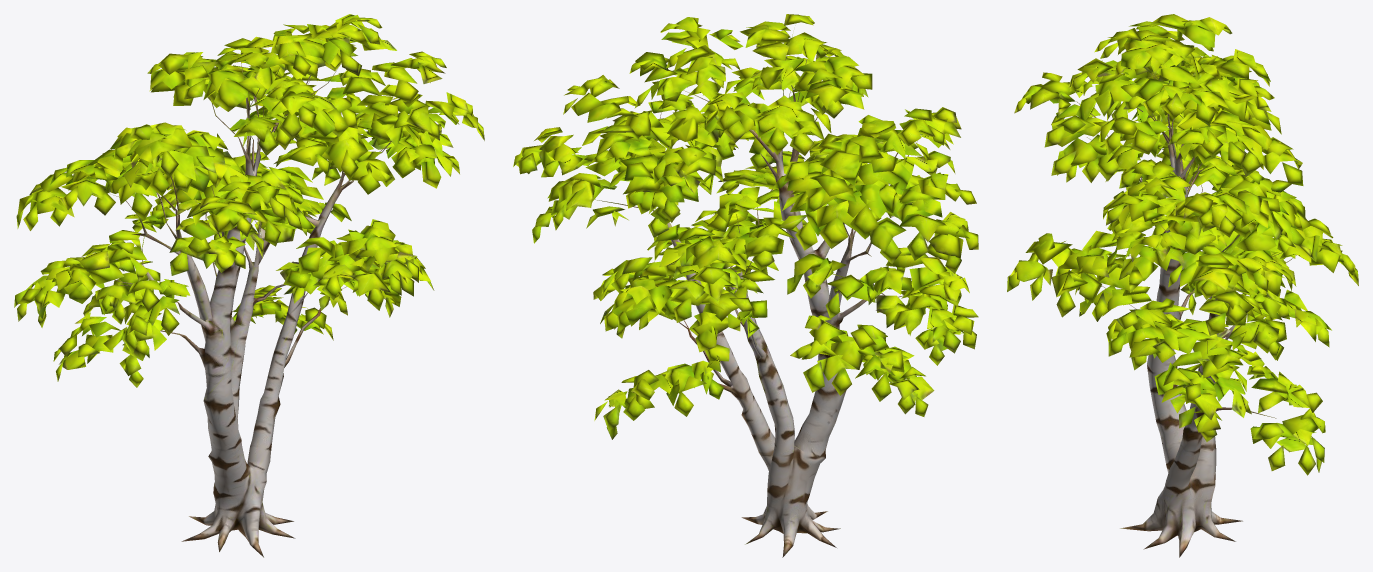
The model's file is birch_a.glb.
3 views of the same model, side by side, from view 1: azimuth 30°, elevation 25°; view 2: azimuth 150°, elevation 25°; view 3: azimuth 270°, elevation 25° (orthographic). The views are drawn at different scales.
Visible parts, largest first — view 1: model; view 2: model; view 3: model.
Boxes of the visible parts, <box> form: model: <box>14,14,484,557</box>; model: <box>513,14,978,557</box>; model: <box>1007,14,1358,557</box>.
Size of the model in its own units: 0.9116 by 0.9473 by 0.5898.
1 material, 1 textured.
